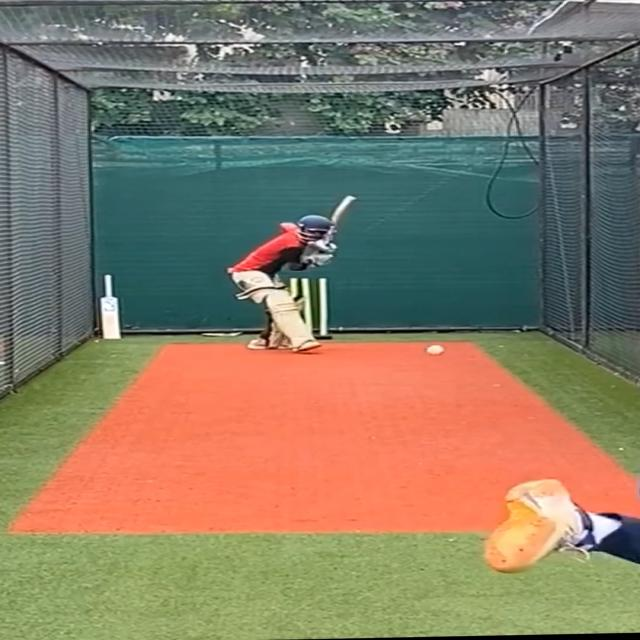ball: (418, 344, 448, 358)
stump: (286, 274, 332, 340)
